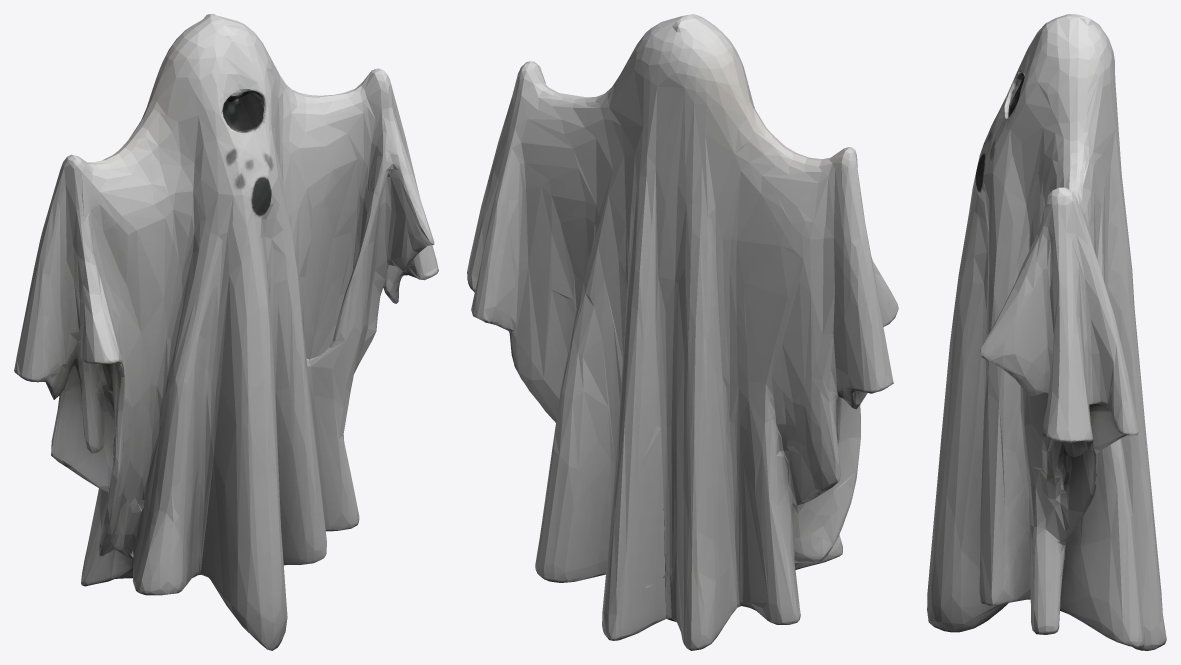
Rendered from ghost_sheet.glb.
3 renders of one model, left to right at view 1: azimuth 30°, elevation 25°; view 2: azimuth 150°, elevation 25°; view 3: azimuth 270°, elevation 25°, orthographic. The views are drawn at different scales.
Visible parts, largest first — view 1: geometry_0; view 2: geometry_0; view 3: geometry_0.
Part boxes in pixels (left/top/right/bottom): geometry_0: left=14, top=14, right=438, bottom=650; geometry_0: left=467, top=14, right=898, bottom=650; geometry_0: left=927, top=14, right=1166, bottom=650.
Bounding box in the file's own units: 0.7446 × 0.9994 × 0.3542.
1 material, 1 textured.
